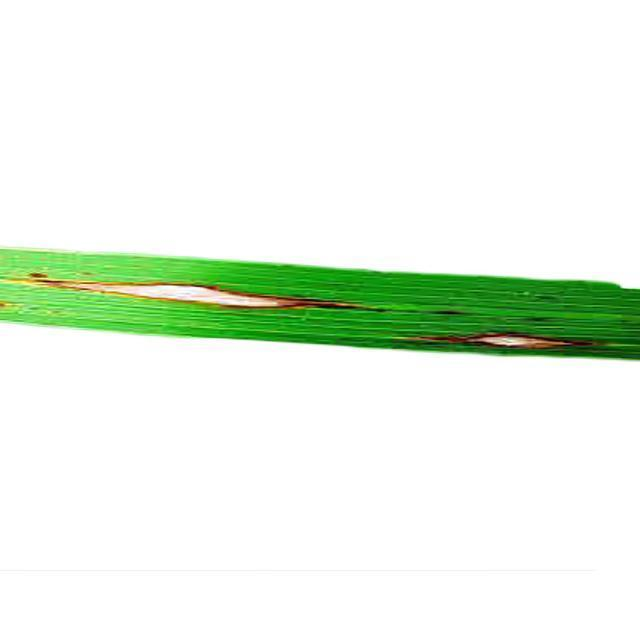Leaf_Blast: (29, 255, 366, 325), (420, 318, 468, 332)
